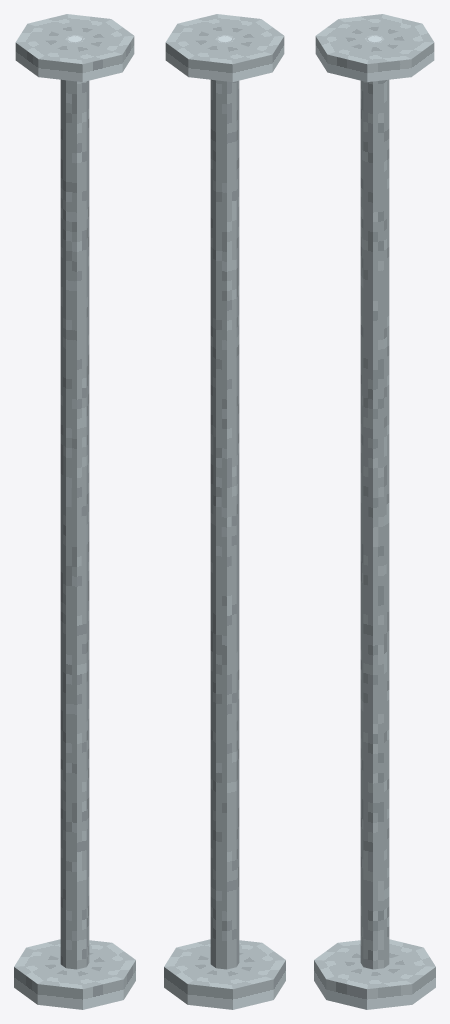
Rendered from f_dancing_pole.glb.
3 views of the same model, side by side, from view 1: azimuth 30°, elevation 25°; view 2: azimuth 210°, elevation 25°; view 3: azimuth 330°, elevation 25° (orthographic).
Visible parts, largest first — view 1: block_pole, block_ceiling-flange, block_floor-flange; view 2: block_pole, block_ceiling-flange, block_floor-flange; view 3: block_pole, block_ceiling-flange, block_floor-flange.
Boxes of the visible parts, x1,y1,x2,y2 form: block_pole: [60, 33, 89, 969]; block_ceiling-flange: [15, 14, 134, 82]; block_floor-flange: [14, 939, 135, 1009]; block_pole: [210, 33, 239, 969]; block_ceiling-flange: [165, 14, 284, 82]; block_floor-flange: [164, 939, 285, 1009]; block_pole: [360, 33, 389, 969]; block_ceiling-flange: [315, 14, 434, 82]; block_floor-flange: [314, 939, 435, 1009].
Size of the model in its own units: 0.218 by 2 by 0.218.
1 material, 1 textured.
